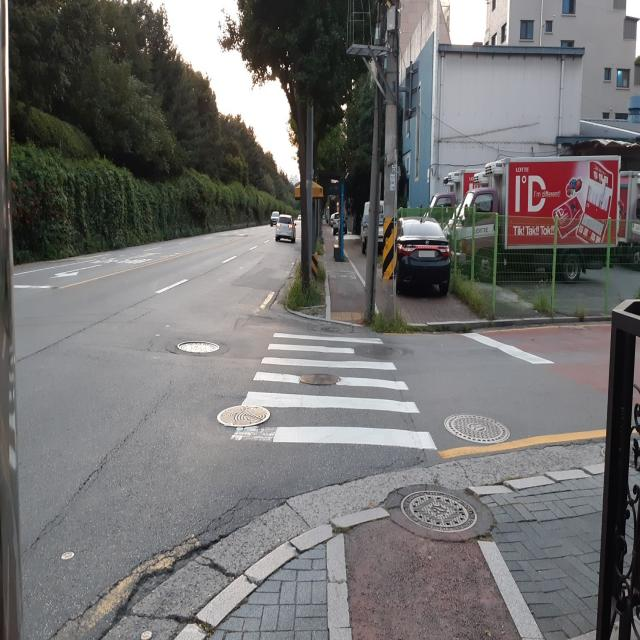횡단보도: (230, 332, 438, 450)
